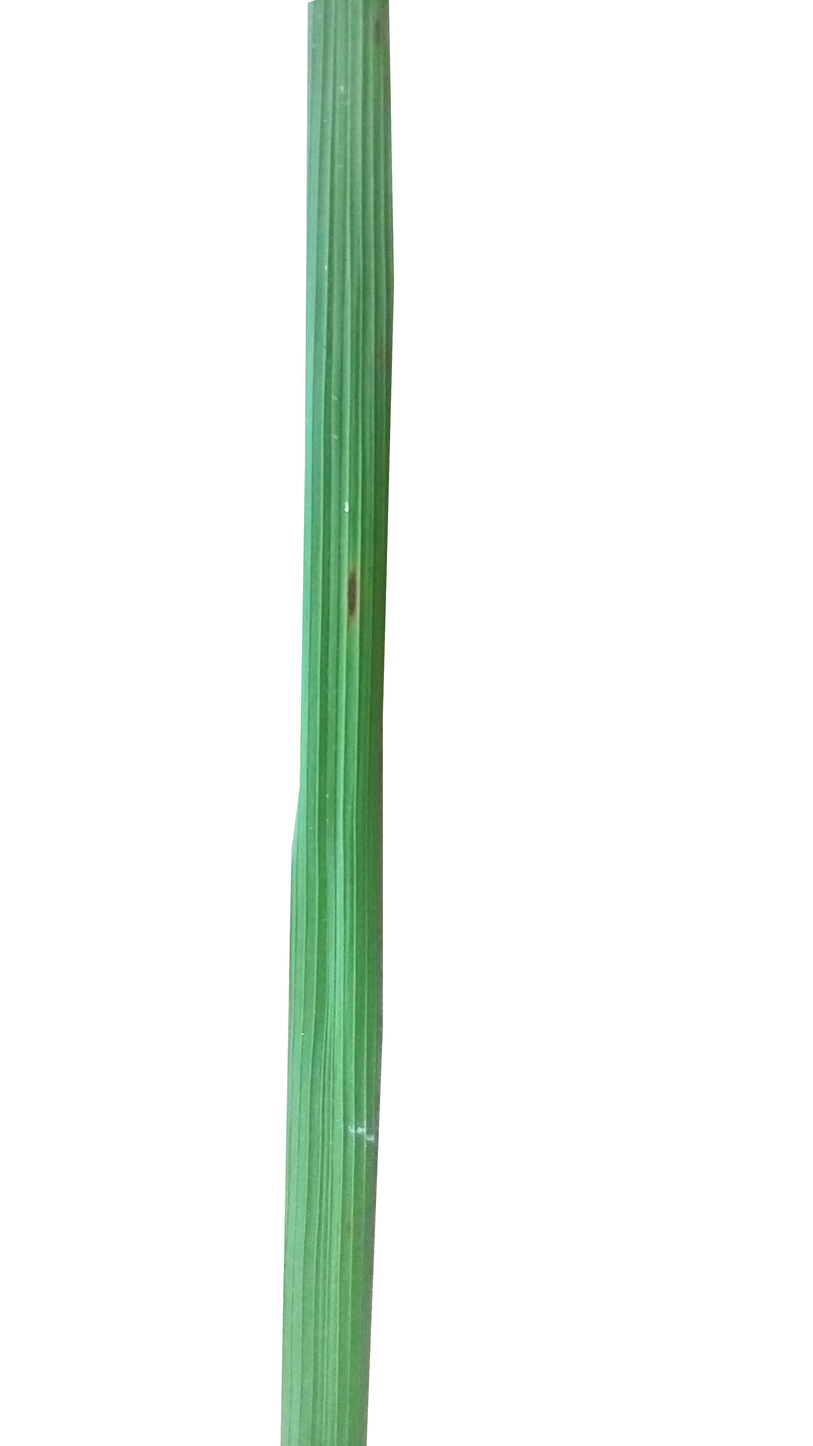Brown spot: (341, 549, 364, 642)
